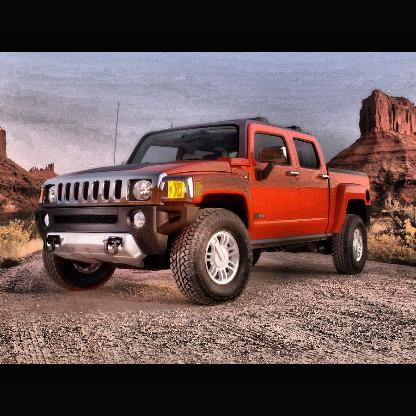HUMMER H3T Crew Cab 2010: (37, 118, 372, 307)
